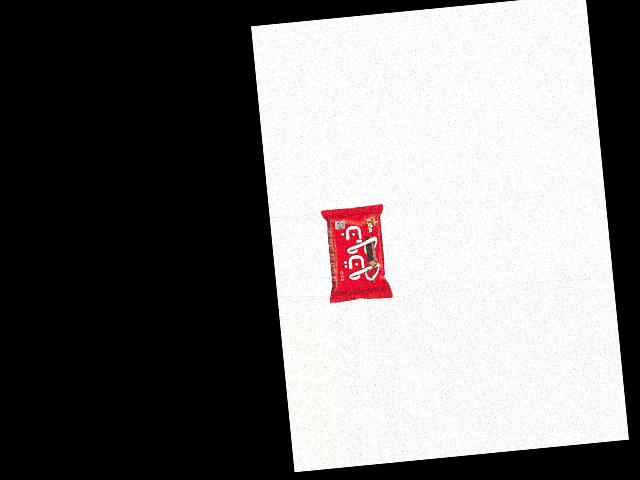chocolate: (319, 204, 392, 303)
